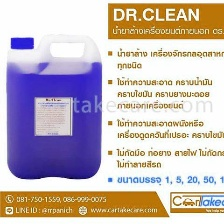cleaning_solution: (3, 31, 104, 181)
